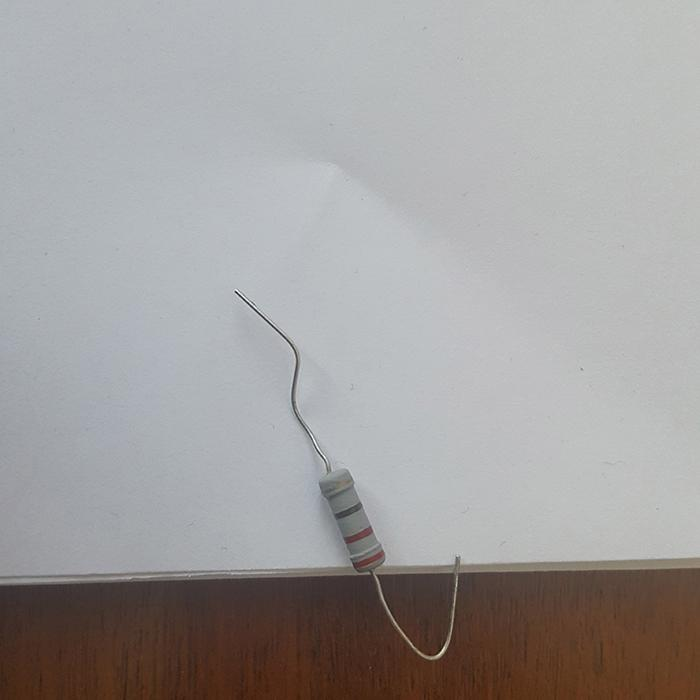resistor: (316, 464, 384, 572)
